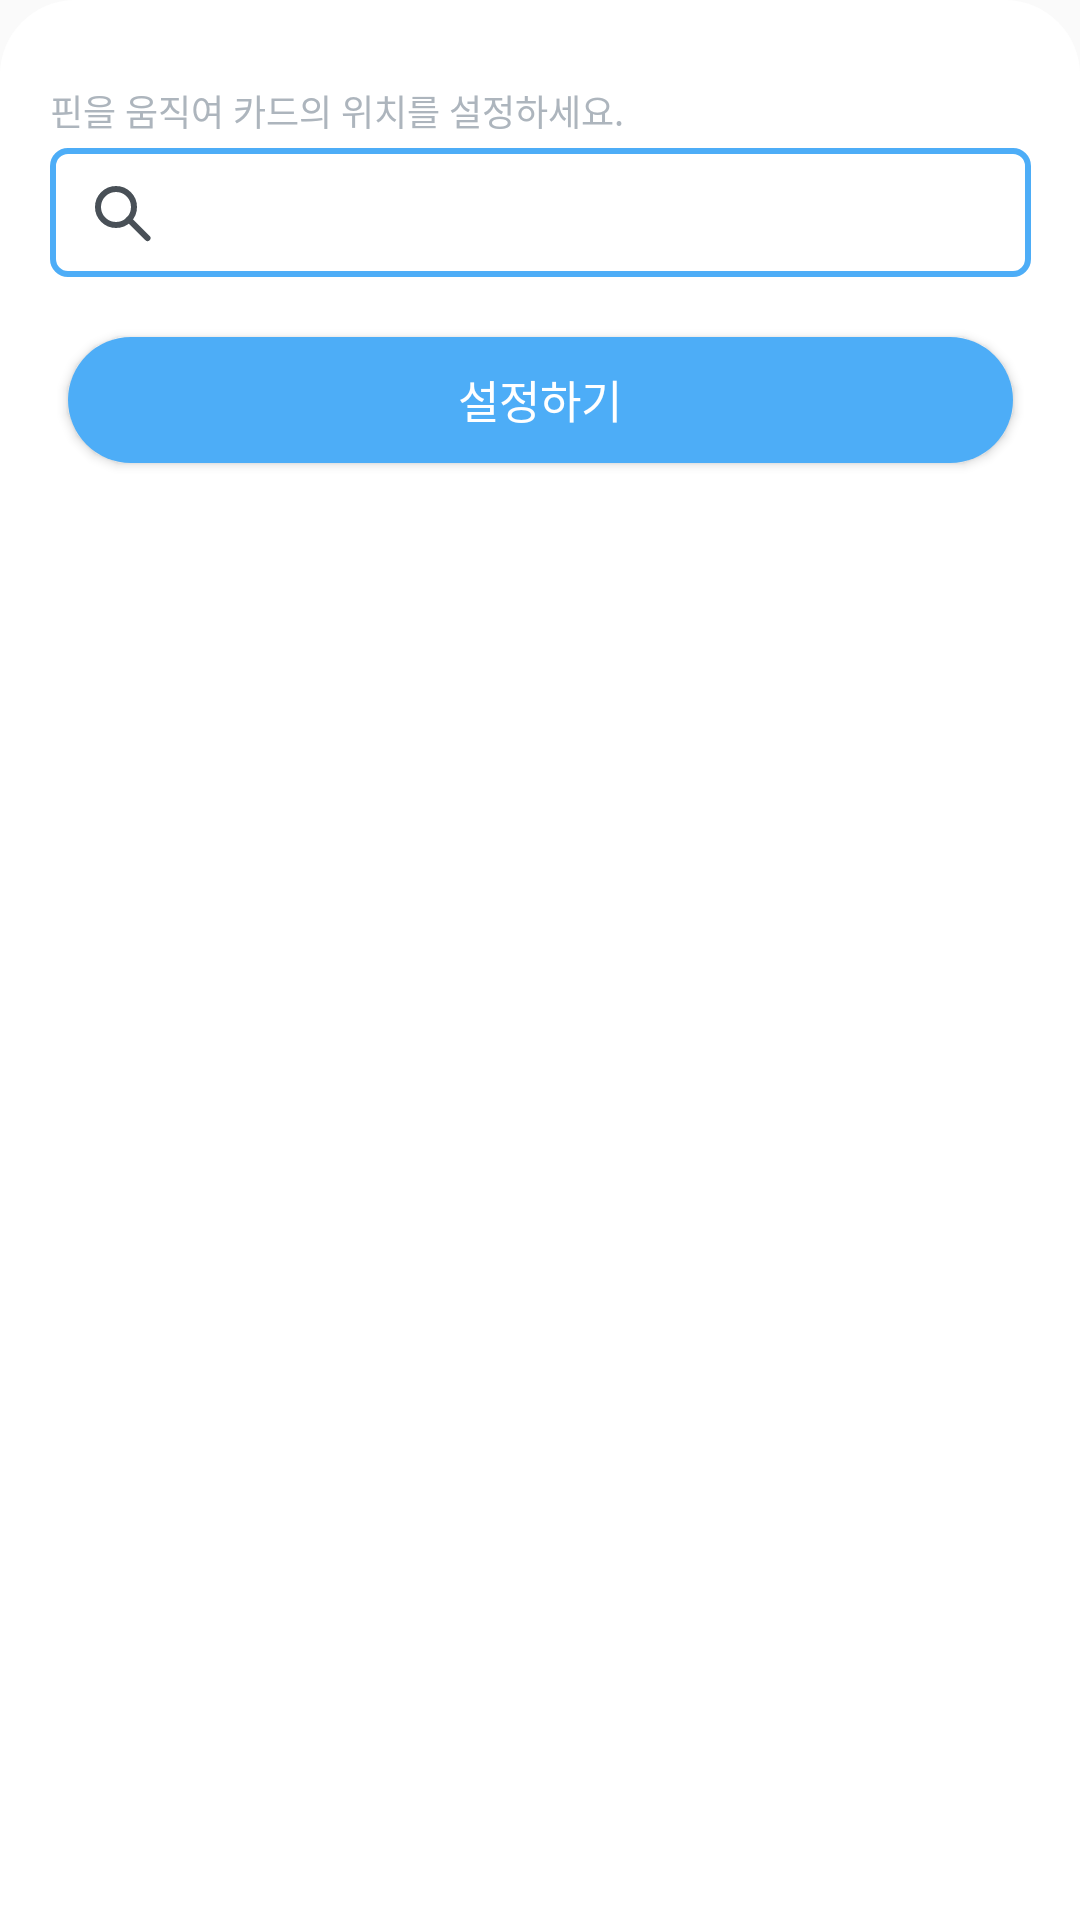

Named icons in this screenshot (1080 x 1920) and their centers, (x,y):
bottom sheet search: (123,214)
